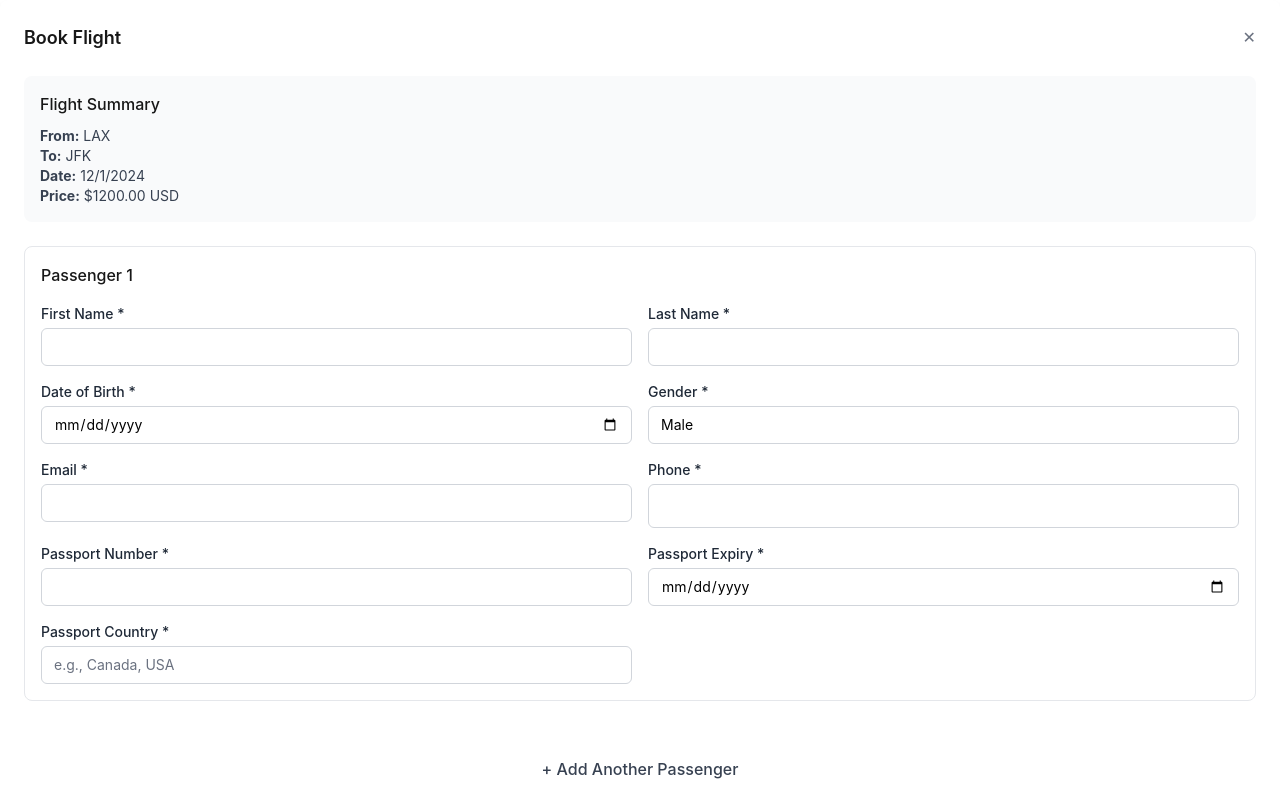
Test: FlightBookingForm › allows removing passengers when more than one exists
This screenshot has width=1280, height=808.
# Add a passenger first
Click the button "+ Add Another Passenger": click(640, 770) [24, 749, 1256, 790]
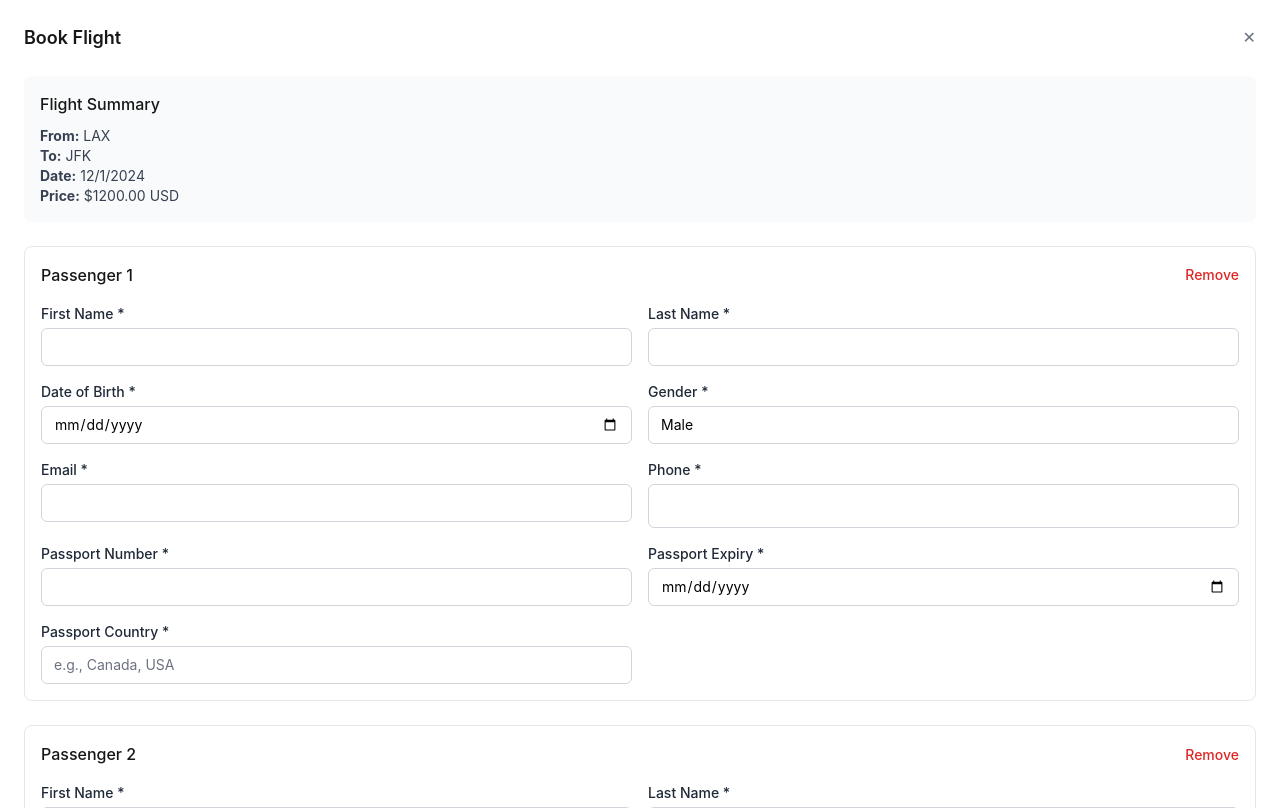
Expected: the heading "Passenger 2" is shown, [41, 742, 136, 767]
# Now remove button should be available
Click the 1st button "Remove": click(1212, 275) [1185, 265, 1239, 285]
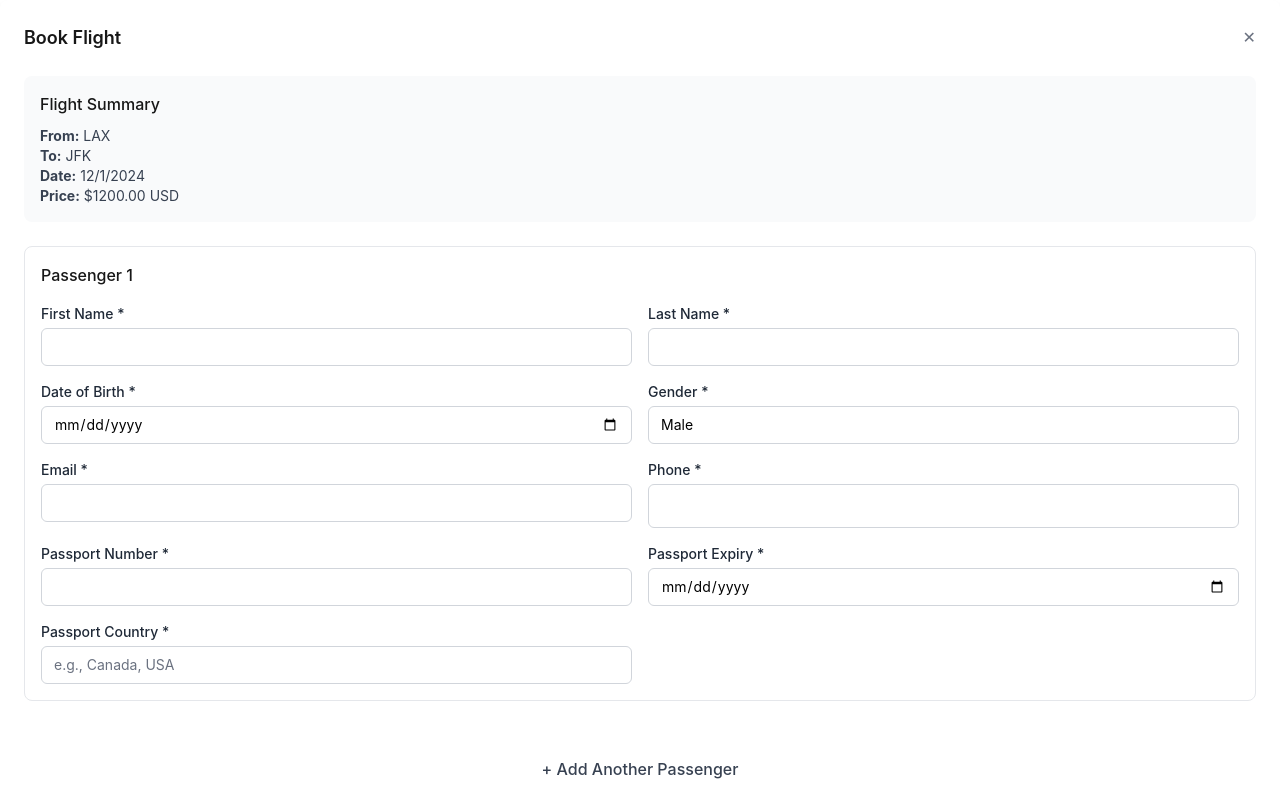
Expected: the heading "Passenger 2" is gone
